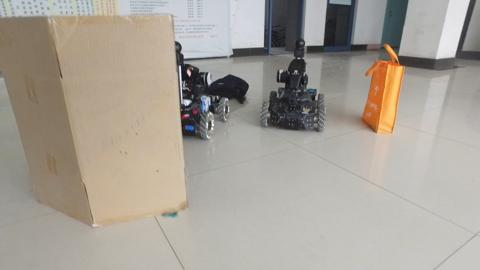bag: (365, 42, 402, 136)
chariot: (264, 40, 328, 131), (175, 38, 231, 138)
